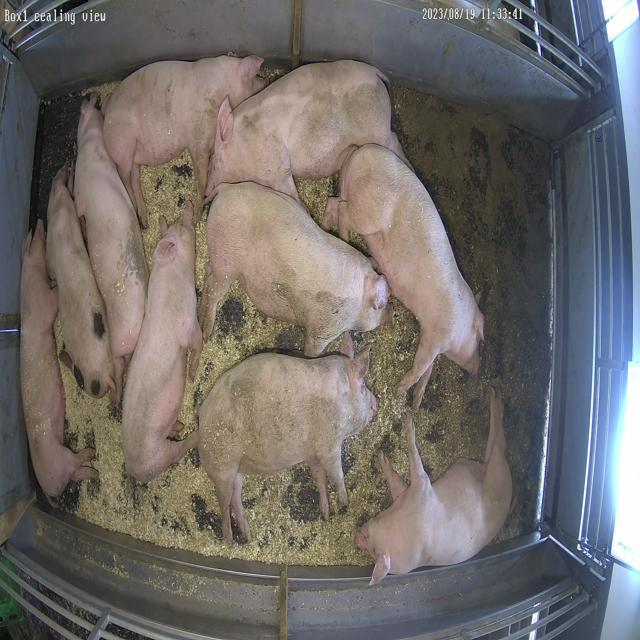Dirt: (394, 84, 551, 540)
Pig: (197, 349, 378, 544), (201, 182, 391, 356), (207, 60, 406, 198), (102, 55, 265, 220), (123, 204, 203, 482), (20, 221, 94, 498), (73, 99, 148, 359), (46, 166, 114, 398)
